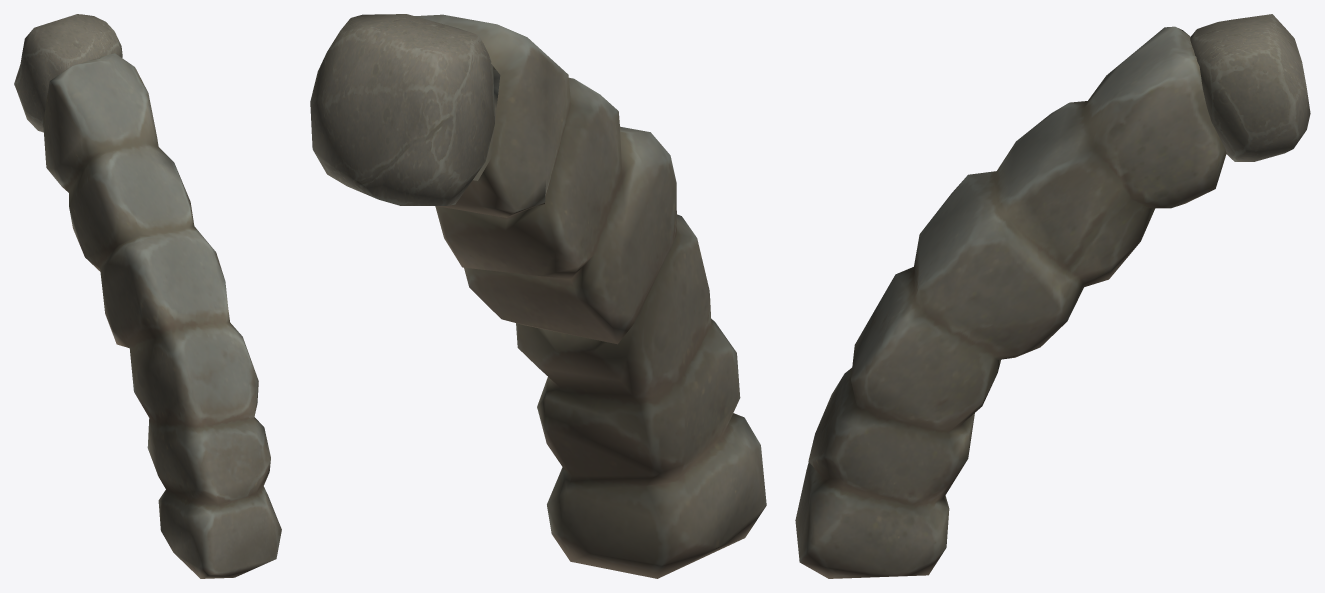
The model's file is SM_FW01_Ruins_Int_Ceiling_6x6_Arch_03.fbx.
3 views of the same model, side by side, from view 1: azimuth 30°, elevation 25°; view 2: azimuth 150°, elevation 25°; view 3: azimuth 270°, elevation 25° (orthographic). The views are drawn at different scales.
Parts seen in each view (by area): view 1: SM_FW01_Ruins_Int_Ceiling_6x6_Arch_03_LOD0; view 2: SM_FW01_Ruins_Int_Ceiling_6x6_Arch_03_LOD0; view 3: SM_FW01_Ruins_Int_Ceiling_6x6_Arch_03_LOD0.
Boxes of the visible parts, bbox=[...] form: SM_FW01_Ruins_Int_Ceiling_6x6_Arch_03_LOD0: bbox=[14, 14, 281, 578]; SM_FW01_Ruins_Int_Ceiling_6x6_Arch_03_LOD0: bbox=[310, 14, 766, 578]; SM_FW01_Ruins_Int_Ceiling_6x6_Arch_03_LOD0: bbox=[795, 14, 1310, 578].
Size of what is drawn, in the model's own units: 0.7364 by 3.3 by 2.87.
